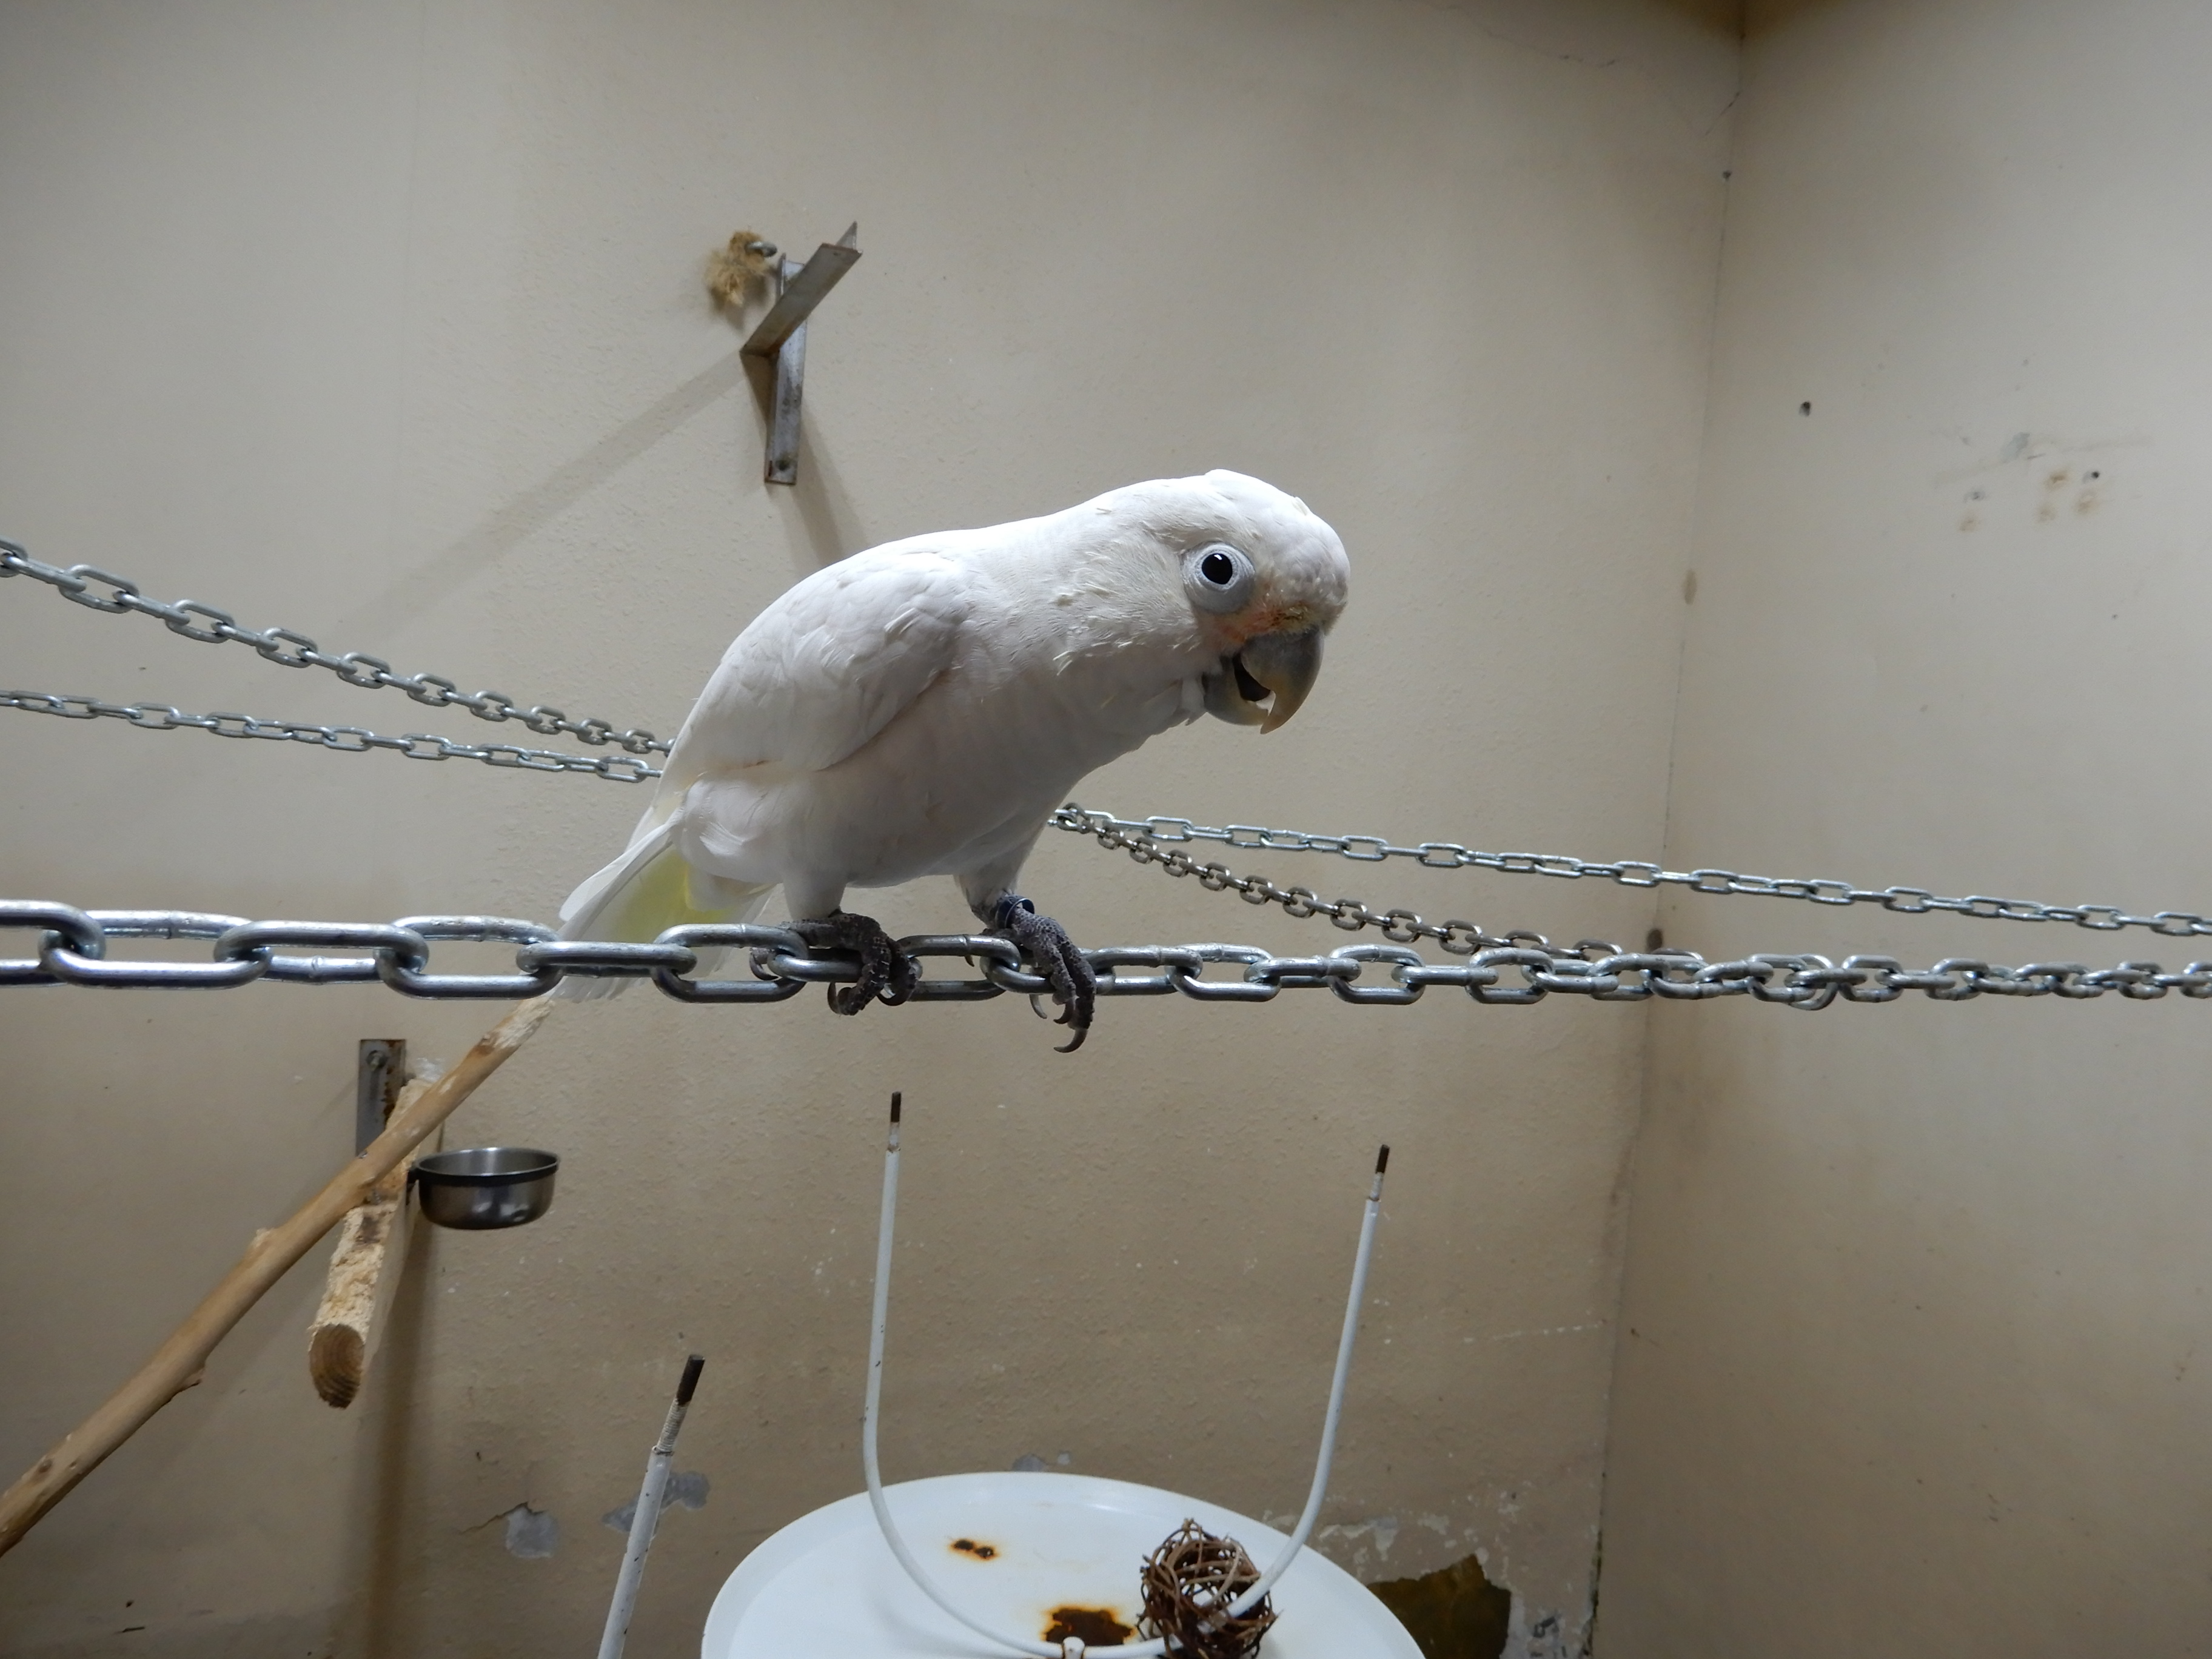Cacatua goffiniana: (549, 455, 1362, 1014)
